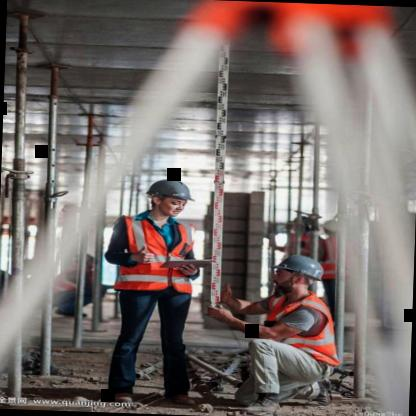helmet: (270, 254, 326, 300), (140, 174, 192, 218)
